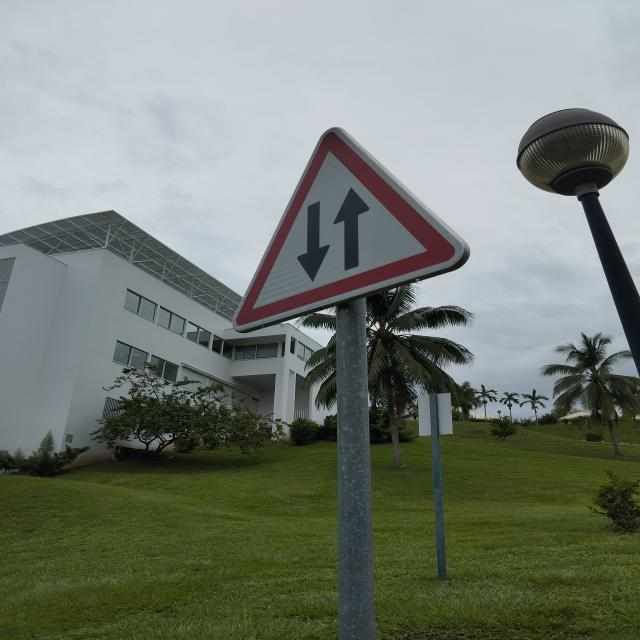Double-Sens: (223, 127, 484, 340)
